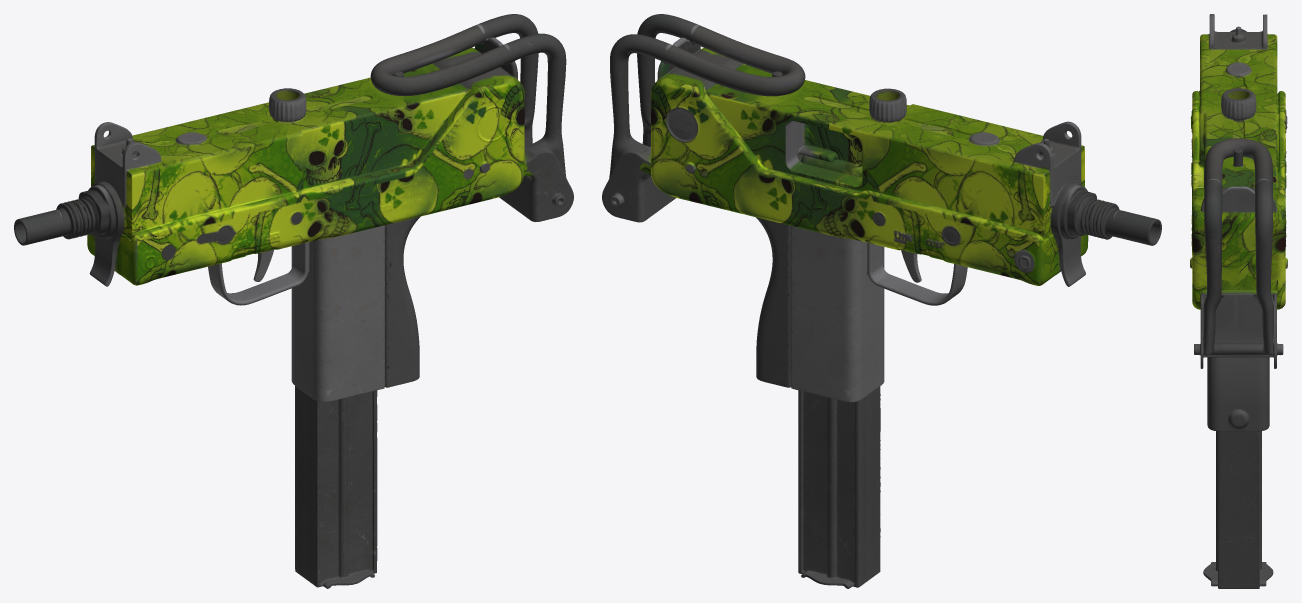
File: Meshy_AI_Meshy_AI_mac10_101213_1014152127_texture.glb
The picture shows the model from 3 angles, left to right: view 1: azimuth 30°, elevation 25°; view 2: azimuth 150°, elevation 25°; view 3: azimuth 270°, elevation 25°; orthographic projection. The views are drawn at different scales.
Bounding box in the file's own units: 2 × 1.8 × 0.3385.
1 material, 1 textured.
